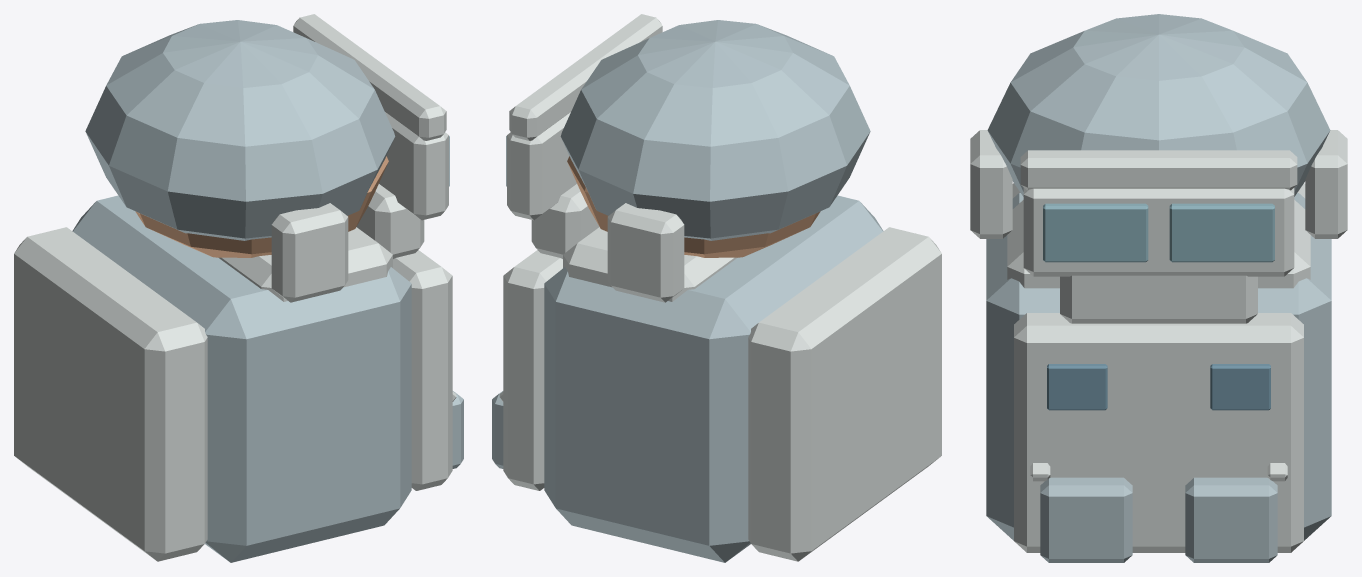
Rendered from steel-recon.cold-front.glb.
3 renders of one model, left to right at view 1: azimuth 30°, elevation 25°; view 2: azimuth 150°, elevation 25°; view 3: azimuth 270°, elevation 25°, orthographic. The views are drawn at different scales.
Visible parts, largest first — view 1: steel-recon_cold-front__main__torso_finish_dde3e1_0.03, steel-recon_cold-front__main__torso_finish_b7c8ce_0.03, steel-recon_cold-front__main__head_finish_b7c8ce_0.03, steel-recon_cold-front__main__head_finish_dde3e1_0.03, steel-recon_cold-front__main__head_finish_e2b28e_0.03; view 2: steel-recon_cold-front__main__torso_finish_dde3e1_0.03, steel-recon_cold-front__main__torso_finish_b7c8ce_0.03, steel-recon_cold-front__main__head_finish_b7c8ce_0.03, steel-recon_cold-front__main__head_finish_dde3e1_0.03, steel-recon_cold-front__main__head_finish_e2b28e_0.03; view 3: steel-recon_cold-front__main__torso_finish_dde3e1_0.03, steel-recon_cold-front__main__head_finish_dde3e1_0.03, steel-recon_cold-front__main__head_finish_b7c8ce_0.03, steel-recon_cold-front__main__torso_finish_b7c8ce_0.03, steel-recon_cold-front__main__head_finish_91b6c0_0.03, steel-recon_cold-front__main__torso_finish_779bad_0.03.
Boxes of the visible parts, box(x1,y1,x2,y2) form: steel-recon_cold-front__main__torso_finish_dde3e1_0.03: box(14, 227, 456, 561); steel-recon_cold-front__main__torso_finish_b7c8ce_0.03: box(72, 195, 463, 562); steel-recon_cold-front__main__head_finish_b7c8ce_0.03: box(85, 20, 395, 240); steel-recon_cold-front__main__head_finish_dde3e1_0.03: box(271, 14, 448, 302); steel-recon_cold-front__main__head_finish_e2b28e_0.03: box(135, 156, 388, 257); steel-recon_cold-front__main__torso_finish_dde3e1_0.03: box(499, 227, 941, 561); steel-recon_cold-front__main__torso_finish_b7c8ce_0.03: box(492, 195, 883, 562); steel-recon_cold-front__main__head_finish_b7c8ce_0.03: box(560, 20, 870, 240); steel-recon_cold-front__main__head_finish_dde3e1_0.03: box(507, 14, 684, 302); steel-recon_cold-front__main__head_finish_e2b28e_0.03: box(567, 156, 820, 257); steel-recon_cold-front__main__torso_finish_dde3e1_0.03: box(1007, 183, 1310, 552); steel-recon_cold-front__main__head_finish_dde3e1_0.03: box(970, 130, 1347, 323); steel-recon_cold-front__main__head_finish_b7c8ce_0.03: box(987, 14, 1330, 196); steel-recon_cold-front__main__torso_finish_b7c8ce_0.03: box(986, 193, 1331, 562); steel-recon_cold-front__main__head_finish_91b6c0_0.03: box(1043, 203, 1274, 262); steel-recon_cold-front__main__torso_finish_779bad_0.03: box(1047, 364, 1270, 410).
Bounding box in the file's own units: 30.25 × 39.5 × 28.6.
